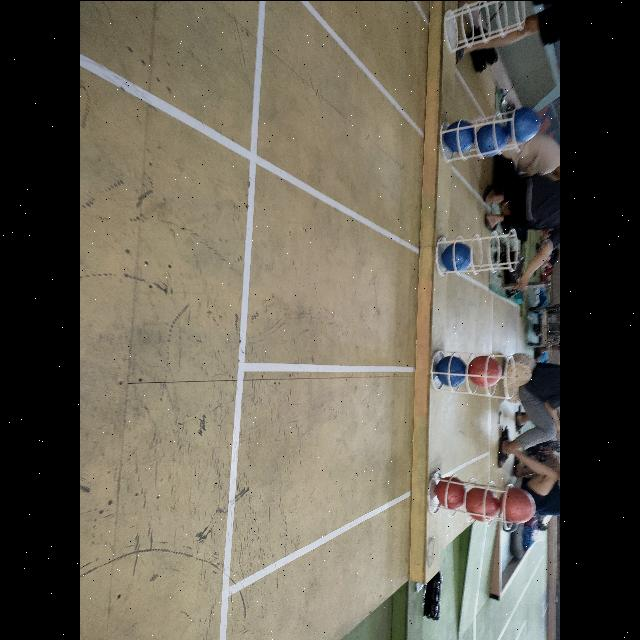B: (506, 107, 542, 141), (475, 123, 505, 157), (444, 117, 474, 151), (434, 356, 466, 386), (442, 242, 474, 270)
R: (500, 487, 534, 521), (465, 486, 499, 520), (468, 357, 502, 387), (432, 476, 464, 506)
